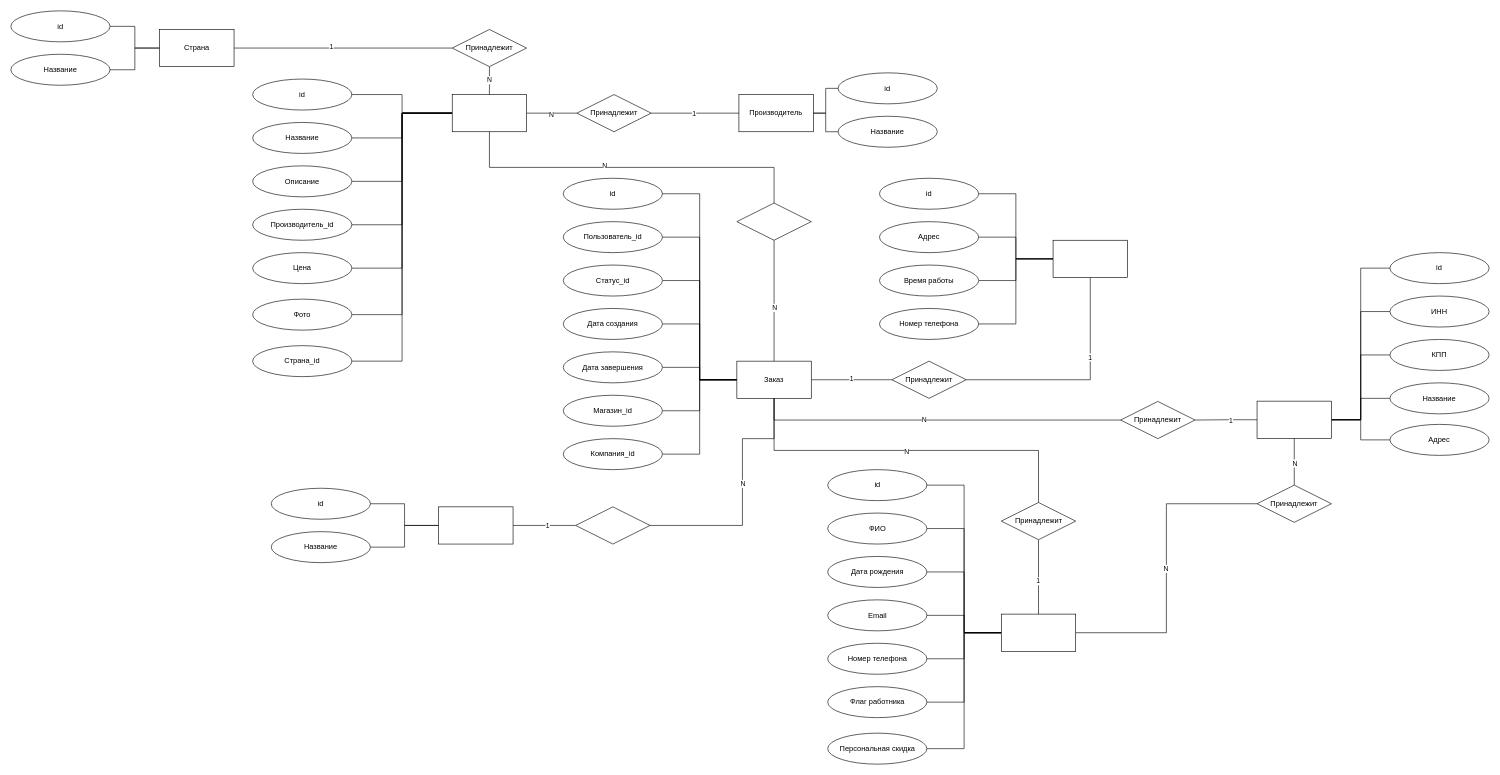
Image size: 1500x775. Some labels were removed from this diagram. Each missing label, with the box of its shape:
Имеет: (575, 506, 650, 544)
Компания: (1256, 401, 1331, 438)
Магазин: (1052, 240, 1127, 277)
Пользователь: (1001, 613, 1076, 651)
Содержит: (736, 202, 811, 240)
Статус: (438, 506, 513, 544)
Товар: (452, 94, 527, 132)
